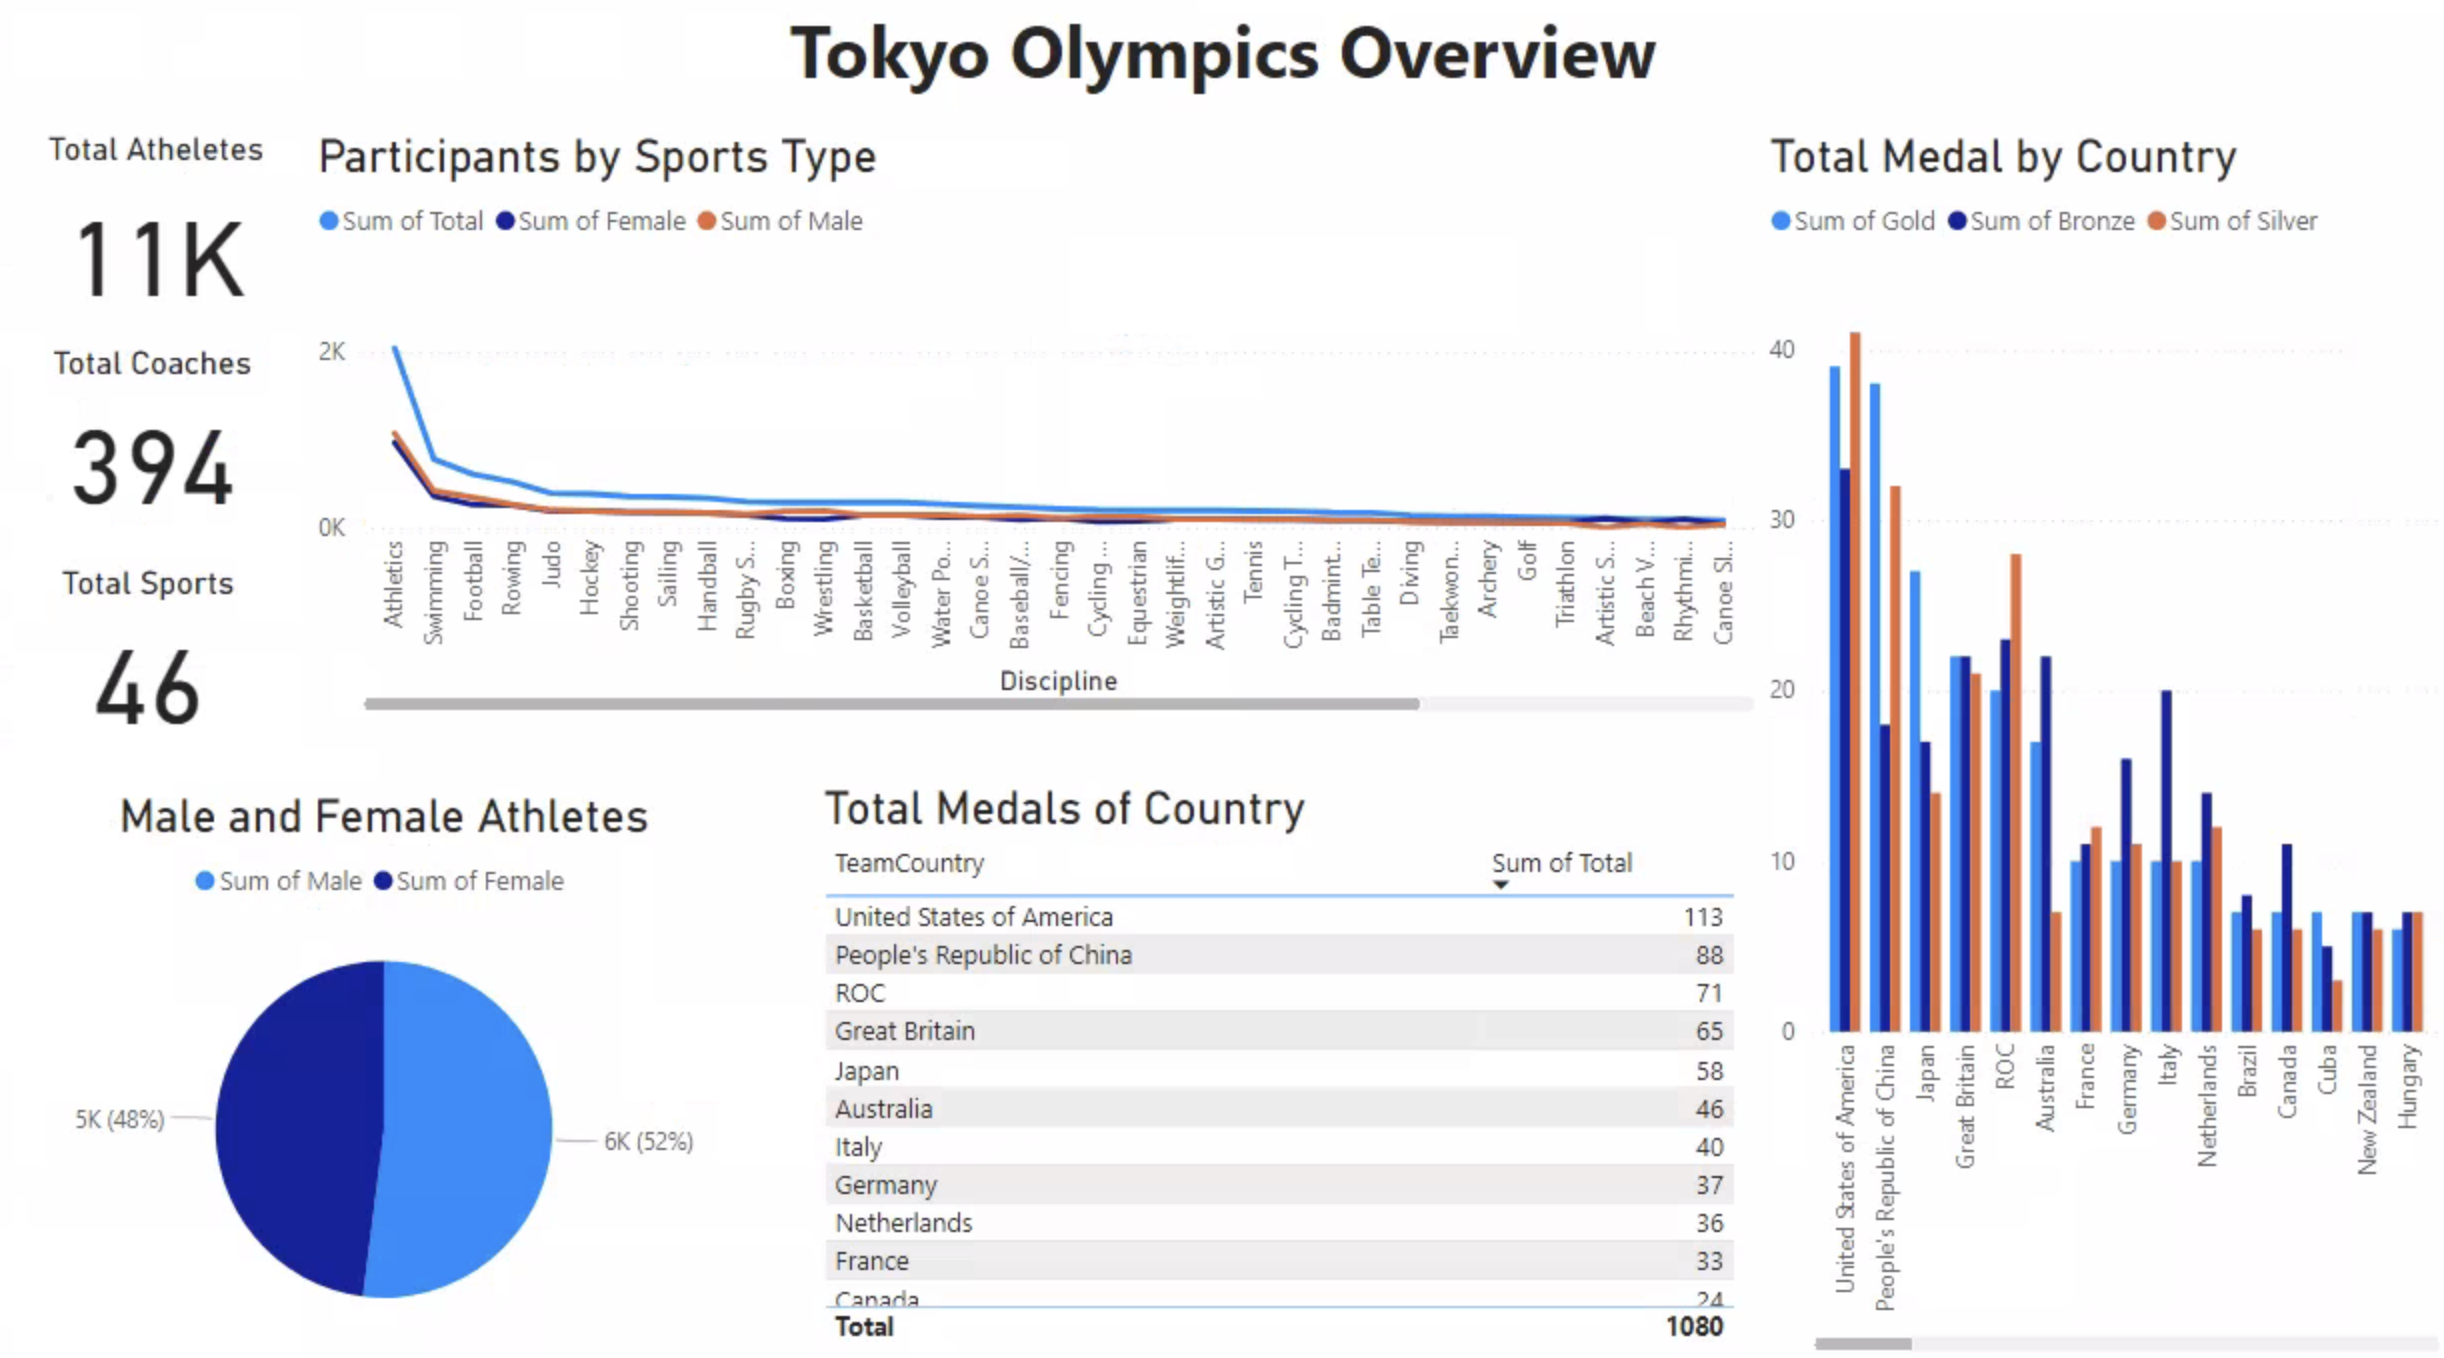

The dashboard page shown, as its layout file describes it:
{"tool":"powerbi","page":{"name":"Page 1","canvas":[1280,720],"ordinal":0},"visuals":[{"type":"tableEx","title":"Total Medals of Country","fields":{"Values":["medals.TeamCountry","Sum(medals.Total)"]},"box":[426.8,417.4,522.8,298.4],"z":0},{"type":"clusteredColumnChart","title":"Total Medal by Country","fields":{"Category":["medals.TeamCountry"],"Y":["Sum(medals.Gold)","Sum(medals.Bronze)","Sum(medals.Silver)"]},"box":[920.3,77.2,360,642.8],"z":1000},{"type":"card","title":"Total Atheletes","fields":{"Values":["Sum(entriesgender.Total)"]},"box":[4.2,77.2,158.6,101.2],"z":2000},{"type":"lineChart","title":"Participants by Sports Type","fields":{"Category":["entriesgender.Discipline"],"Y":["Sum(entriesgender.Total)","Sum(entriesgender.Female)","Sum(entriesgender.Male)"]},"box":[162.8,77.2,759.7,308.9],"z":3000},{"type":"pieChart","title":"Male and Female Athletes","fields":{"Y":["Sum(entriesgender.Male)","Sum(entriesgender.Female)"]},"box":[0,421.6,404.9,298.4],"z":4000},{"type":"card","title":"Total Sports","fields":{"Values":["Count(entriesgender.Discipline)"]},"box":[0,303.7,158.6,95],"z":5000},{"type":"card","title":"Total Coaches","fields":{"Values":["Count(coaches)"]},"box":[0,188.9,162.8,95],"z":6000},{"type":"textbox","box":[0,5.2,1280.3,64.7],"z":6001}]}

Visuals, with their boxes in screenshot pixels (x1, y1, x2, y2), scaled from the page's 1280x720 canvas onto the 2444x1358 screenshot:
"Total Medals of Country" tableEx: Rect(815, 787, 1813, 1350)
"Total Medal by Country" clusteredColumnChart: Rect(1757, 146, 2443, 1357)
"Total Atheletes" card: Rect(8, 146, 311, 336)
"Participants by Sports Type" lineChart: Rect(311, 146, 1761, 728)
"Male and Female Athletes" pieChart: Rect(0, 795, 773, 1357)
"Total Sports" card: Rect(0, 573, 303, 752)
"Total Coaches" card: Rect(0, 356, 311, 535)
textbox: Rect(0, 10, 2443, 132)
